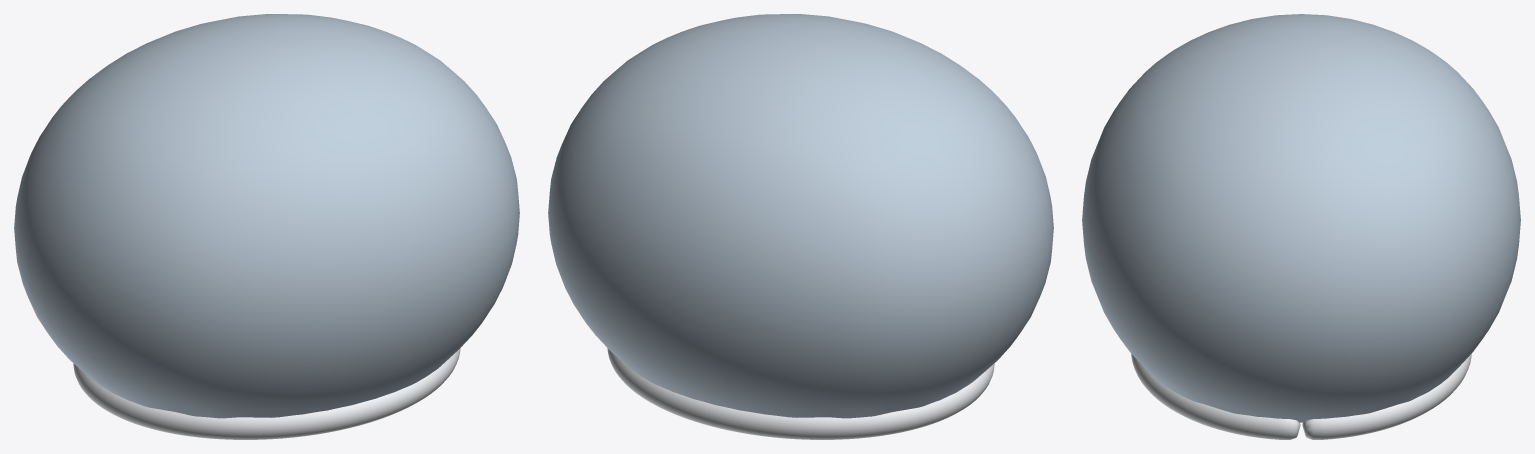
Rendered from astronaut_helmet.glb.
3 renders of one model, left to right at view 1: azimuth 30°, elevation 25°; view 2: azimuth 150°, elevation 25°; view 3: azimuth 270°, elevation 25°, orthographic. The views are drawn at different scales.
Visible parts, largest first — view 1: ACC_astronaut_glass, ACC_astronaut_collar; view 2: ACC_astronaut_glass, ACC_astronaut_collar; view 3: ACC_astronaut_glass, ACC_astronaut_collar.
Part boxes in pixels (<box>): ACC_astronaut_glass: <box>14,14,519,418</box>; ACC_astronaut_collar: <box>73,348,460,439</box>; ACC_astronaut_glass: <box>548,14,1053,418</box>; ACC_astronaut_collar: <box>607,348,994,439</box>; ACC_astronaut_glass: <box>1082,14,1520,422</box>; ACC_astronaut_collar: <box>1131,353,1471,439</box>.
Size of the model in its own units: 1.83 by 1.28 by 1.6.
